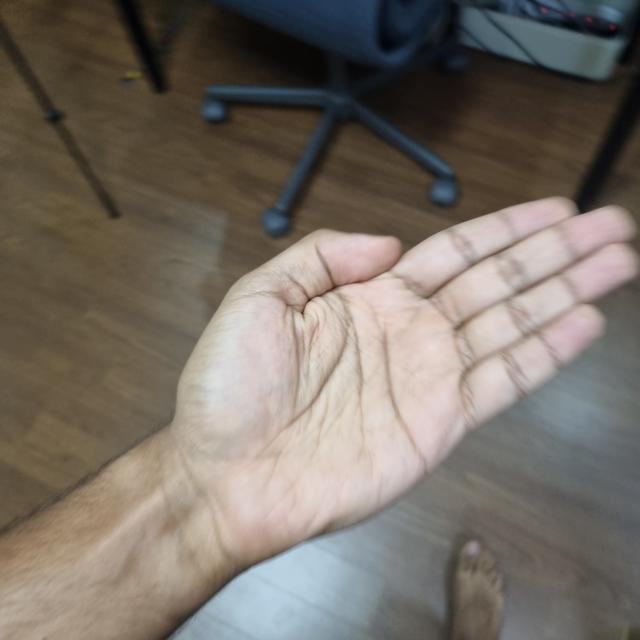Paper: (177, 199, 636, 552)
